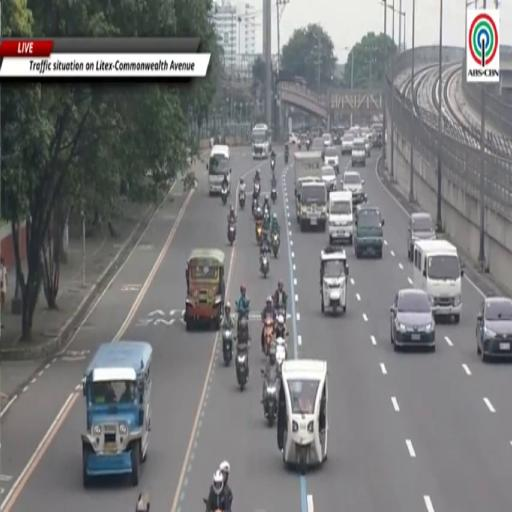car: (391, 288, 435, 350), (476, 297, 511, 361), (408, 213, 436, 261), (342, 171, 366, 205), (351, 138, 367, 167), (324, 147, 339, 173), (322, 166, 336, 191), (341, 134, 354, 155), (364, 133, 372, 157), (322, 133, 332, 147), (289, 133, 298, 145)
jeepney: (82, 341, 152, 487), (184, 249, 224, 330), (295, 176, 321, 222)
motorcycle: (262, 379, 278, 426), (236, 345, 248, 390), (264, 316, 273, 356), (276, 345, 287, 375), (223, 329, 232, 365), (276, 338, 287, 364), (260, 252, 269, 278), (271, 231, 279, 258), (255, 220, 263, 245), (228, 222, 236, 245), (238, 190, 246, 209), (263, 203, 270, 222), (252, 198, 258, 216), (221, 188, 227, 204), (254, 182, 260, 198), (204, 499, 212, 511), (271, 187, 276, 203), (271, 158, 275, 171), (306, 140, 310, 151), (285, 153, 288, 164)
truck: (294, 152, 327, 231), (252, 124, 271, 159)
